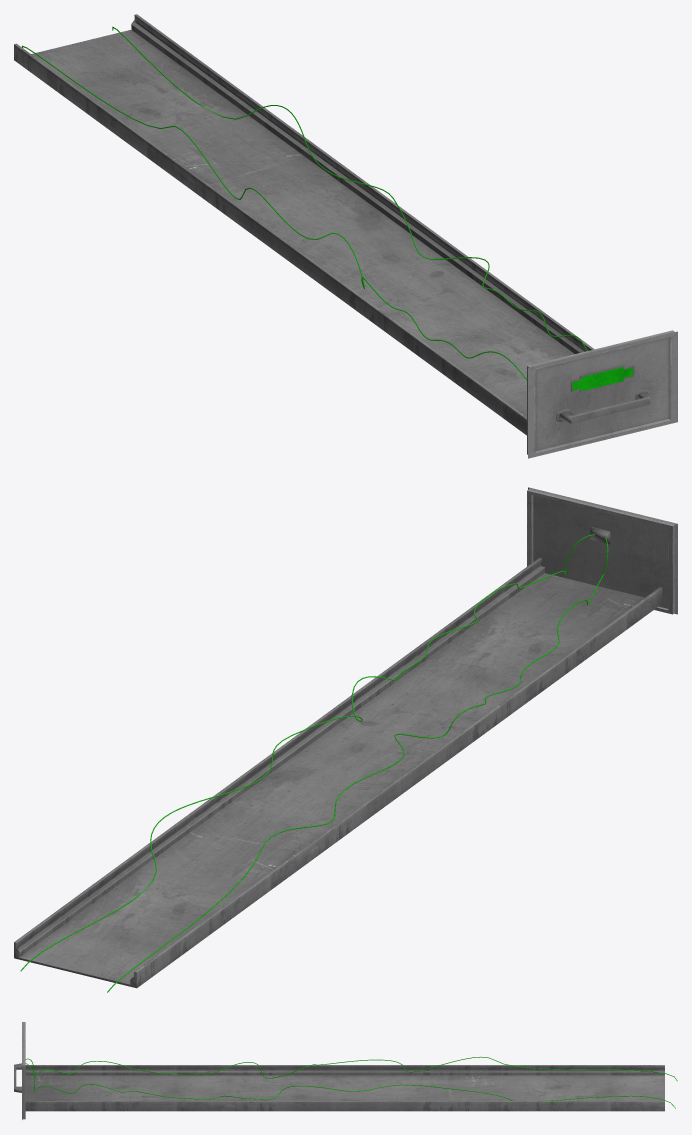
File: szuflada_ziel_pusta.glb
3 renders of one model, top to bottom at view 1: azimuth 30°, elevation 25°; view 2: azimuth 150°, elevation 25°; view 3: azimuth 270°, elevation 25°, orthographic. The views are drawn at different scales.
Visible parts, largest first — view 1: Plane.033, Plane.027, BézierCurve.004, BézierCurve.005, Cube.067, Plane.032; view 2: Plane.033, Plane.027, BézierCurve.005, BézierCurve.004; view 3: Plane.033, BézierCurve.004, BézierCurve.005, Plane.027.
Part boxes in pixels (x1,y1,x2,y2): Plane.033: [14, 14, 594, 435]; Plane.027: [527, 330, 677, 458]; BézierCurve.004: [22, 45, 526, 380]; BézierCurve.005: [112, 26, 587, 350]; Cube.067: [559, 392, 649, 423]; Plane.032: [572, 367, 632, 391]; Plane.033: [14, 557, 662, 988]; Plane.027: [527, 487, 677, 614]; BézierCurve.005: [20, 534, 594, 971]; BézierCurve.004: [107, 537, 608, 992]; Plane.033: [25, 1065, 664, 1111]; BézierCurve.004: [25, 1056, 677, 1081]; BézierCurve.005: [25, 1063, 675, 1108]; Plane.027: [22, 1021, 25, 1119].
Bounding box in the file's own units: 6.34 × 3.67 × 39.91.
3 materials, 3 textured.
